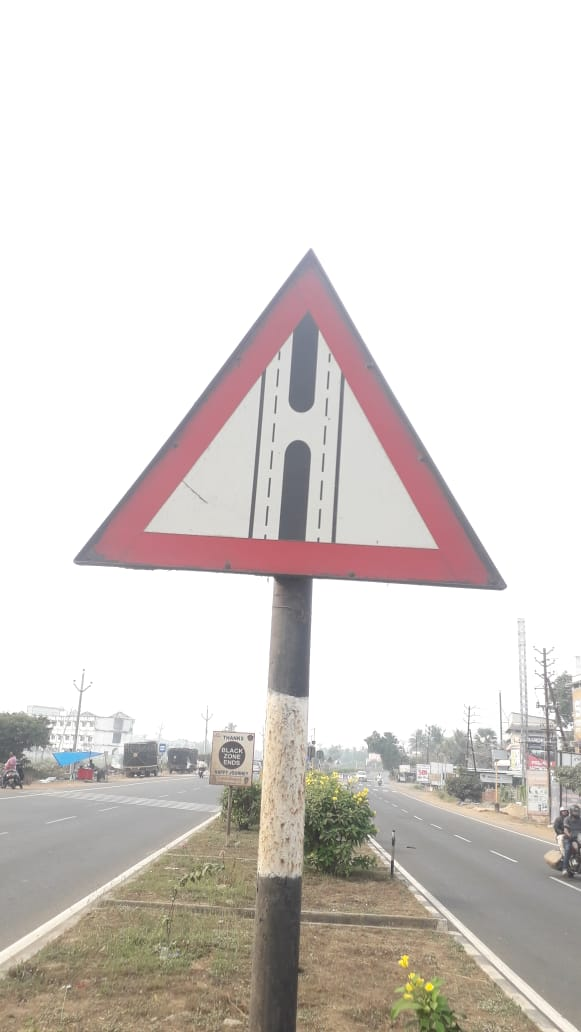highway go straight: (69, 207, 538, 633)
